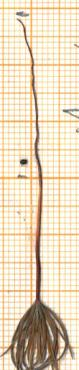flower: (0, 297, 79, 370)
root: (16, 15, 44, 161)
stem: (30, 161, 50, 297)
